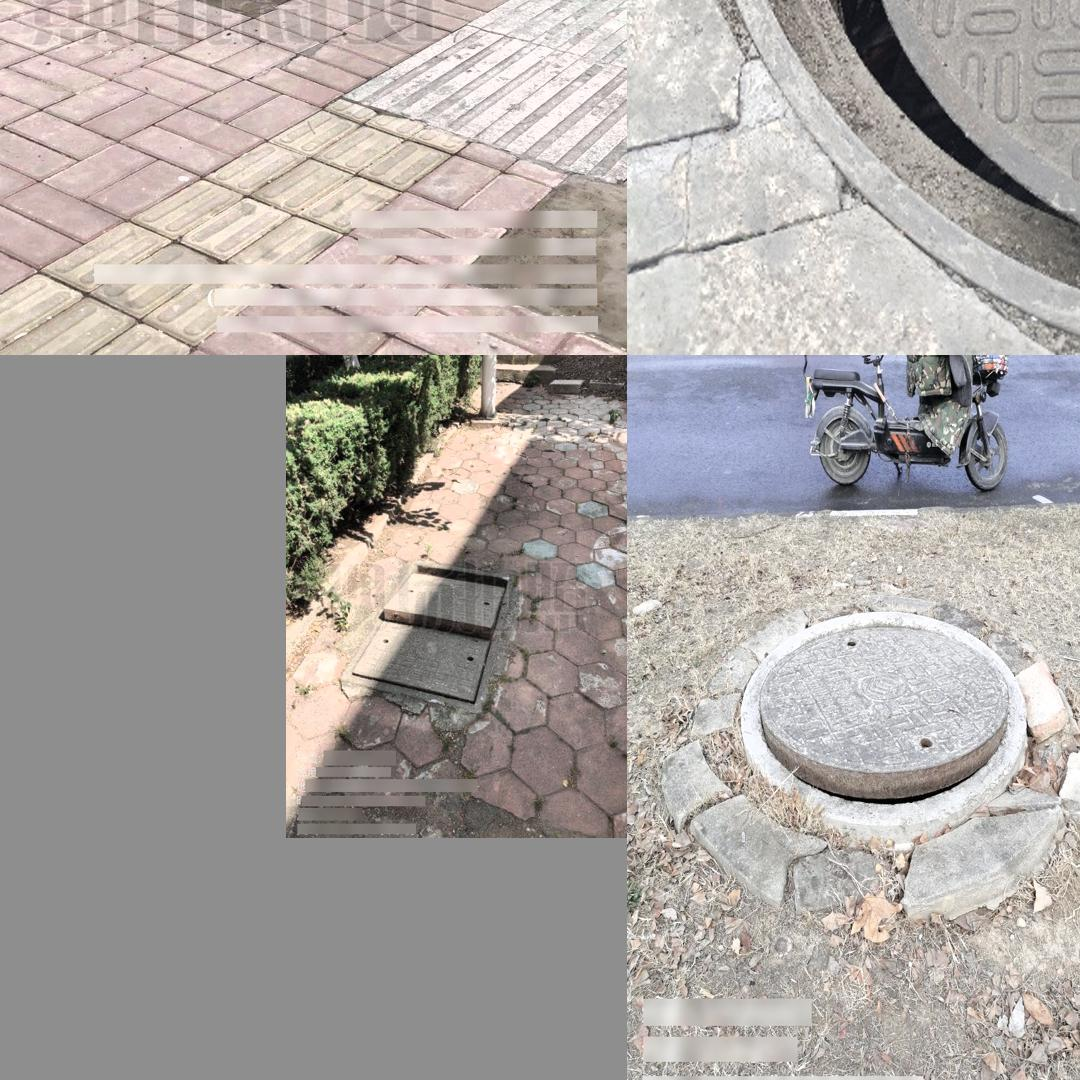uncovered: (702, 0, 1080, 346), (739, 607, 1025, 841), (340, 558, 519, 714)
